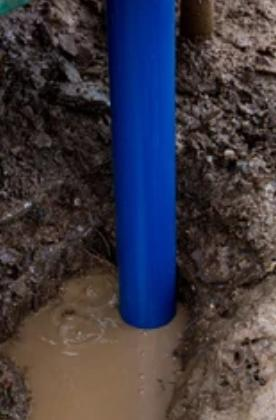water accumulation: (0, 268, 191, 420)
